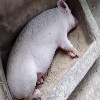heo: (40, 1, 84, 59)
